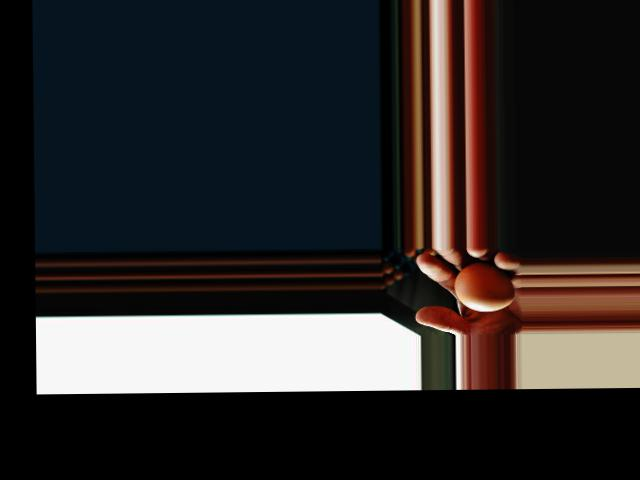egg: (454, 260, 516, 311)
